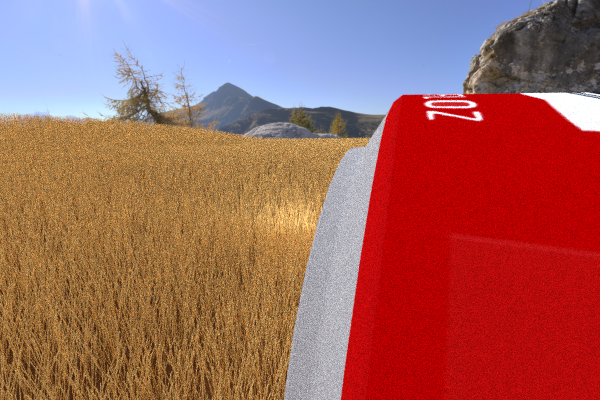Plastic Bottle: (278, 0, 600, 400), (418, 128, 550, 207), (405, 134, 437, 154)
